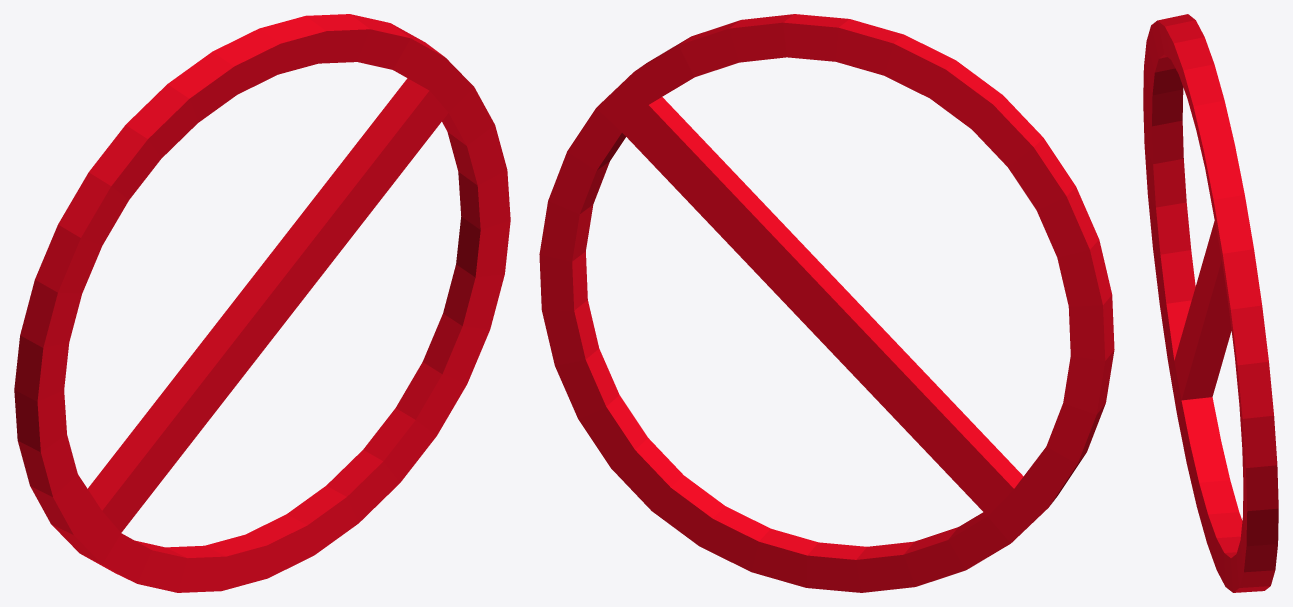
The model's file is 220325_1821--bad-x.fbx.
3 views of the same model, side by side, from view 1: azimuth 30°, elevation 25°; view 2: azimuth 150°, elevation 25°; view 3: azimuth 270°, elevation 25° (orthographic). The views are drawn at different scales.
Visible parts, largest first — view 1: Cylinder; view 2: Cylinder; view 3: Cylinder.
Part boxes in pixels (bbox=[...]): Cylinder: bbox=[14, 14, 510, 592]; Cylinder: bbox=[539, 14, 1114, 592]; Cylinder: bbox=[1143, 14, 1278, 592].
Bounding box in the file's own units: 690 × 695 × 162.
Materials: 1 (1 with a texture image).
